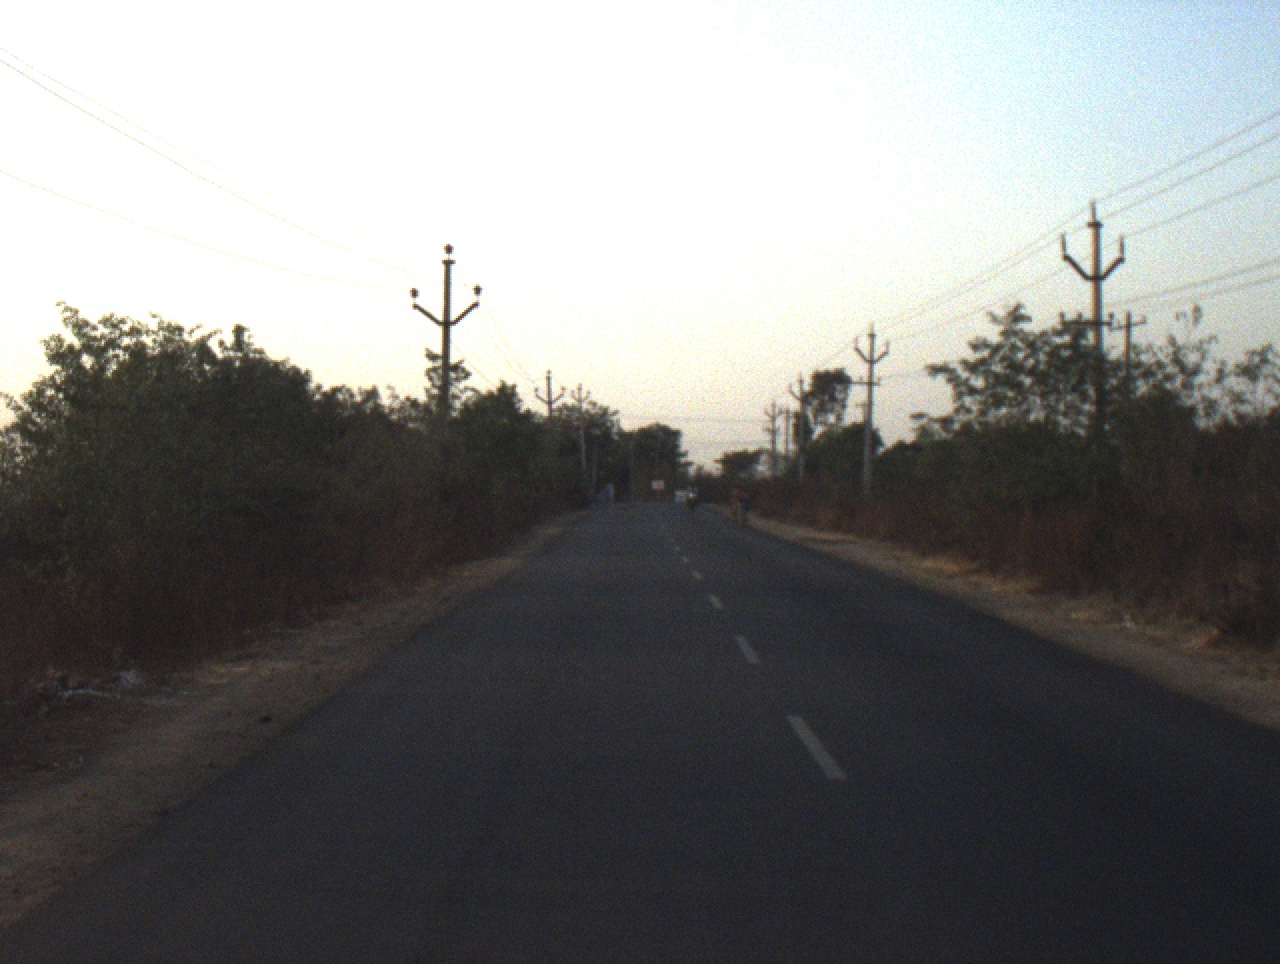motorcycle: (732, 500, 748, 526), (686, 491, 700, 511)
rider: (732, 482, 750, 514), (685, 482, 697, 507)
vehicle fallback: (672, 486, 688, 502)
